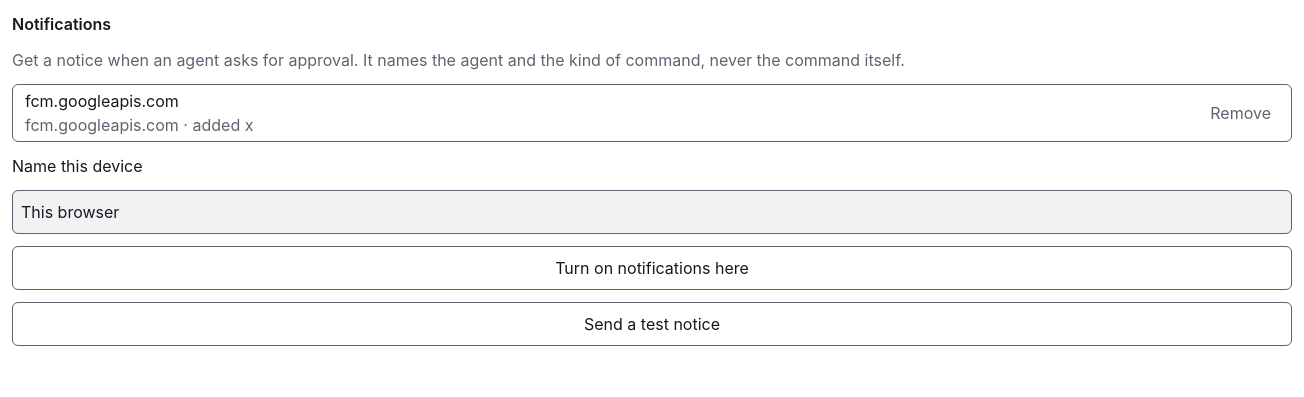
Test: Notifications › says when a remove fails
What coordinates should you click on to do the following:
click the button with aria-label "Remove fcm.googleapis.com"
I would click on:
 (1241, 113)
Its box is x1=1202 y1=91 x2=1279 y2=135.
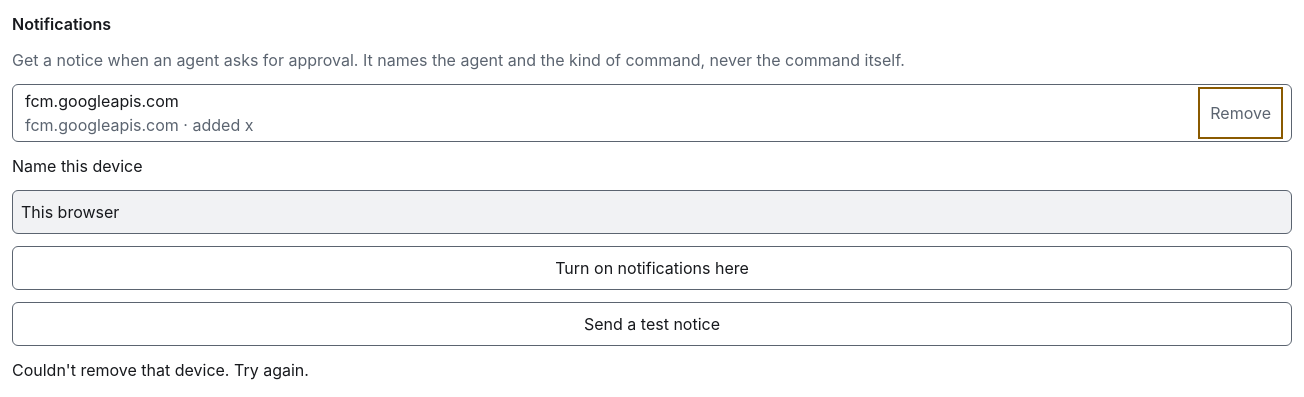
Check: the message reads "Couldn't remove that device. Try again.", box x1=12 y1=360 x2=309 y2=380
